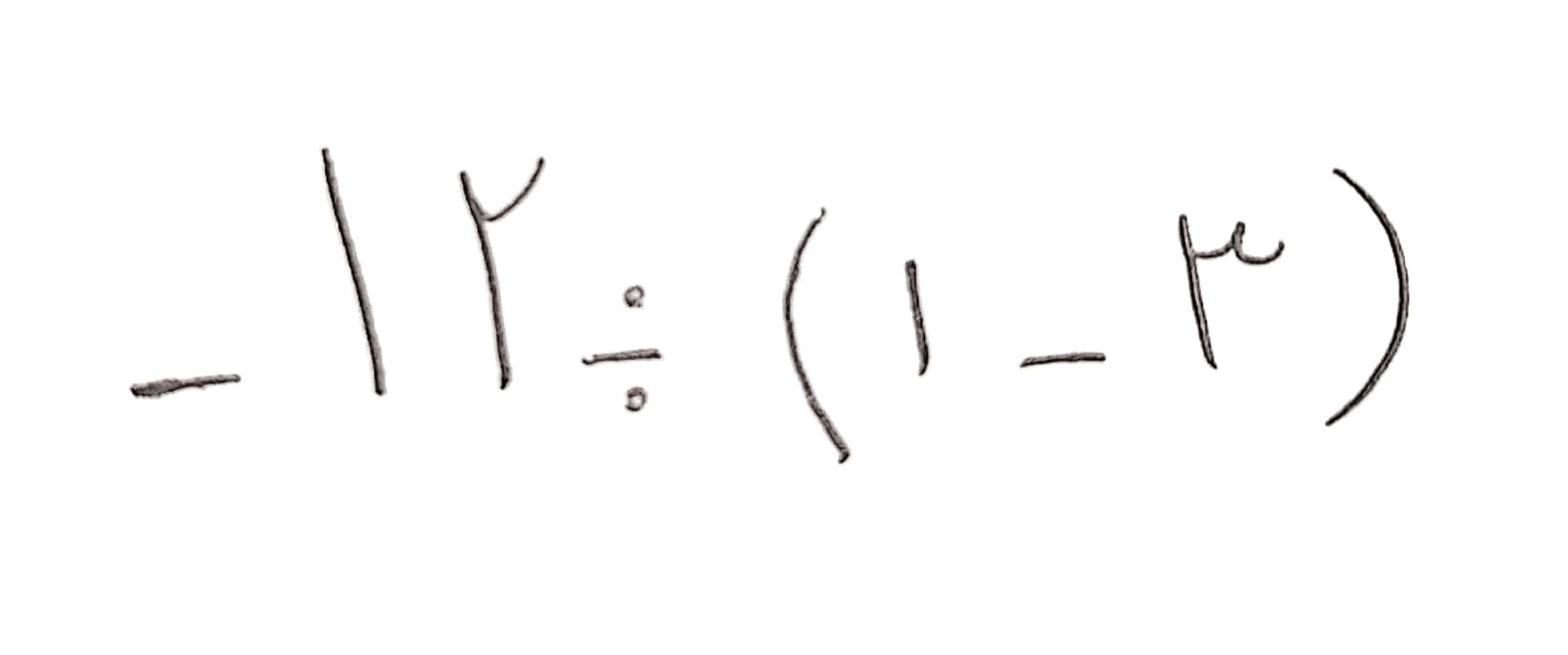character: (1325, 166, 1408, 425), (459, 158, 544, 390), (783, 209, 849, 464), (320, 147, 385, 395), (1180, 215, 1283, 367), (582, 286, 662, 412), (906, 261, 929, 375), (130, 376, 243, 398), (1020, 354, 1107, 367)
